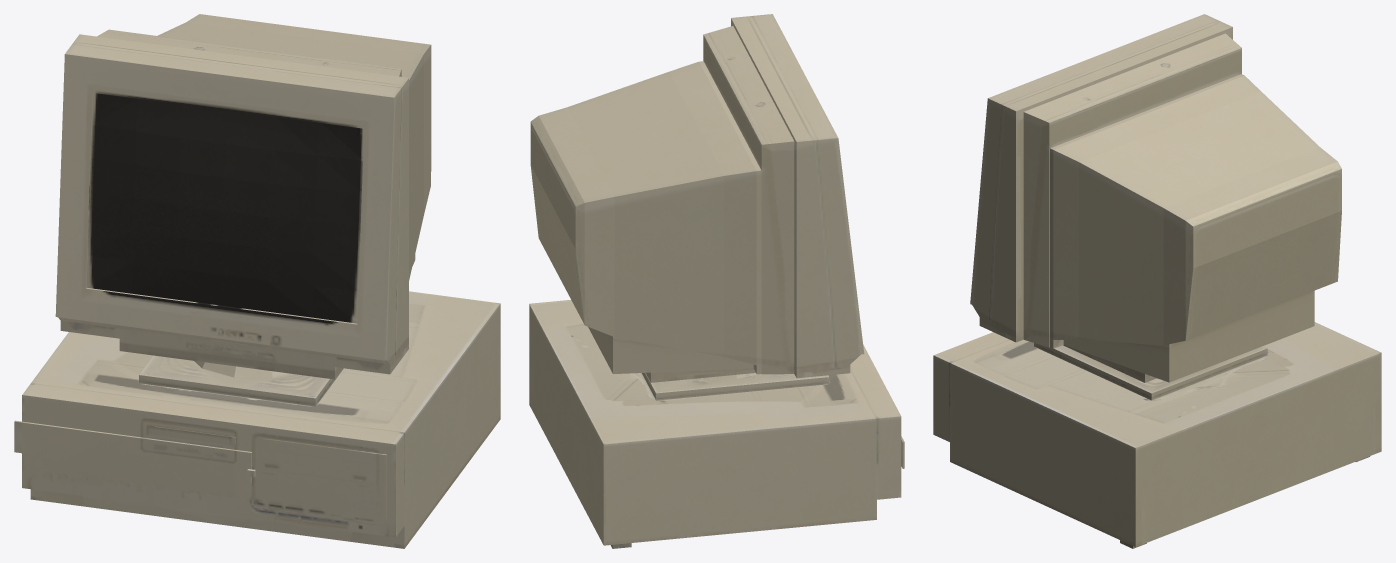
File: MainScreen_Computer.fbx
3 renders of one model, left to right at view 1: azimuth 30°, elevation 25°; view 2: azimuth 150°, elevation 25°; view 3: azimuth 270°, elevation 25°, orthographic. The views are drawn at different scales.
Parts seen in each view (by area): view 1: MainScreen_Computer_Low; view 2: MainScreen_Computer_Low; view 3: MainScreen_Computer_Low.
Boxes of the visible parts, x1=… form: MainScreen_Computer_Low: x1=14, y1=14, x2=500, y2=548; MainScreen_Computer_Low: x1=529, y1=14, x2=904, y2=548; MainScreen_Computer_Low: x1=933, y1=14, x2=1381, y2=548.
Bounding box in the file's own units: 1.35 × 1.24 × 1.34.
